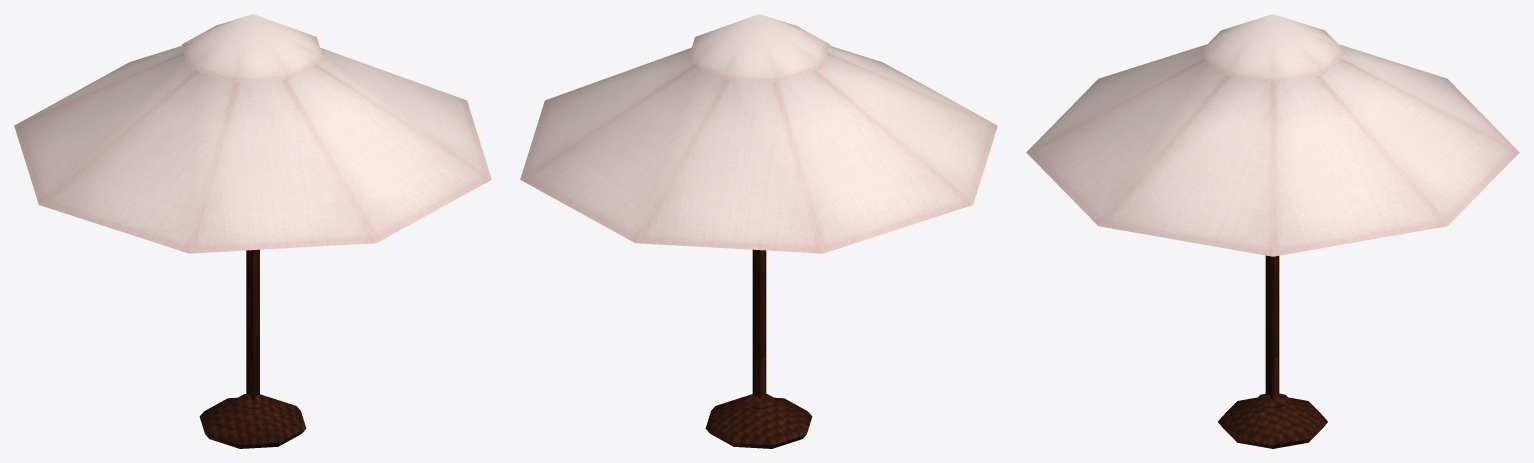
Rendered from Rattan_BeachUnmbrella_01.FBX.
3 renders of one model, left to right at view 1: azimuth 30°, elevation 25°; view 2: azimuth 150°, elevation 25°; view 3: azimuth 270°, elevation 25°, orthographic.
Visible parts, largest first — view 1: Rattan_BeachUnmbrella_01; view 2: Rattan_BeachUnmbrella_01; view 3: Rattan_BeachUnmbrella_01.
Boxes of the visible parts, bbox=[...] form: Rattan_BeachUnmbrella_01: bbox=[14, 14, 491, 448]; Rattan_BeachUnmbrella_01: bbox=[520, 14, 997, 448]; Rattan_BeachUnmbrella_01: bbox=[1026, 14, 1519, 448].
Size of the model in its own units: 3.39 by 3.39 by 3.14.
